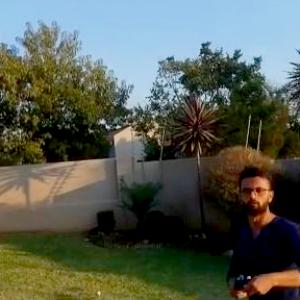follow: (222, 149, 300, 299)
